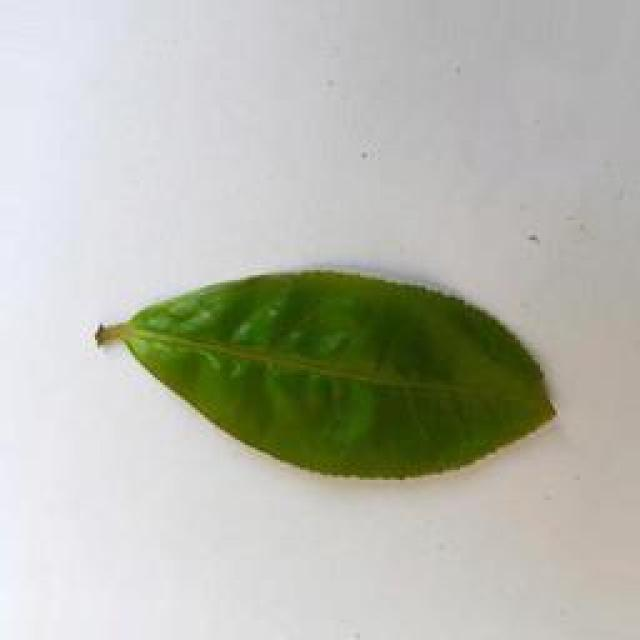Healthy: (91, 266, 579, 487)
